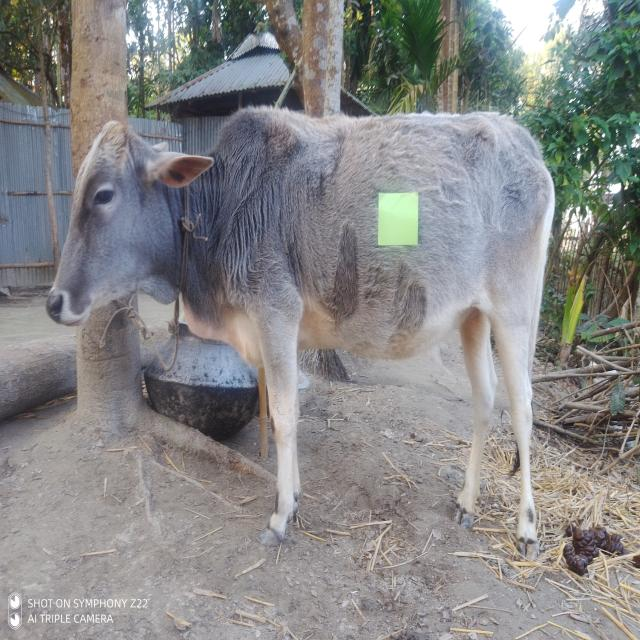badan_sapi: (252, 109, 536, 353)
sapi: (43, 105, 556, 564)
